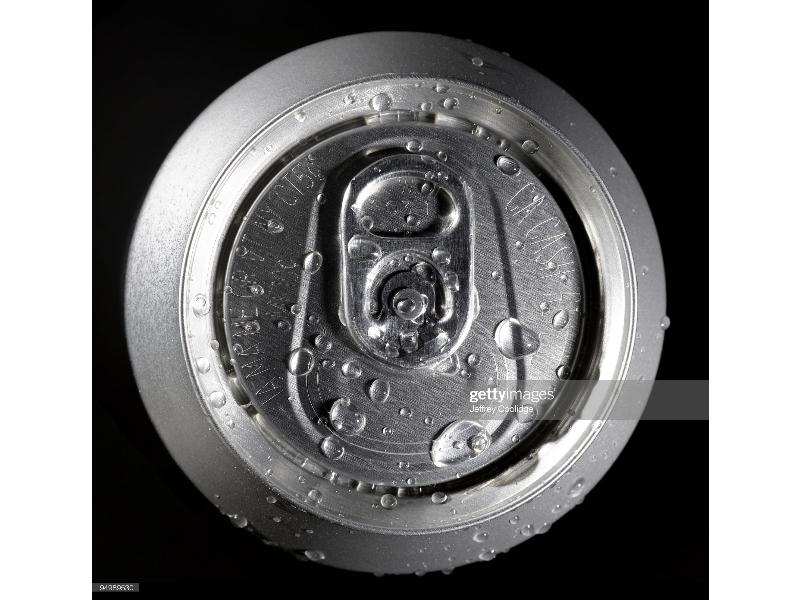can: (123, 32, 666, 571)
